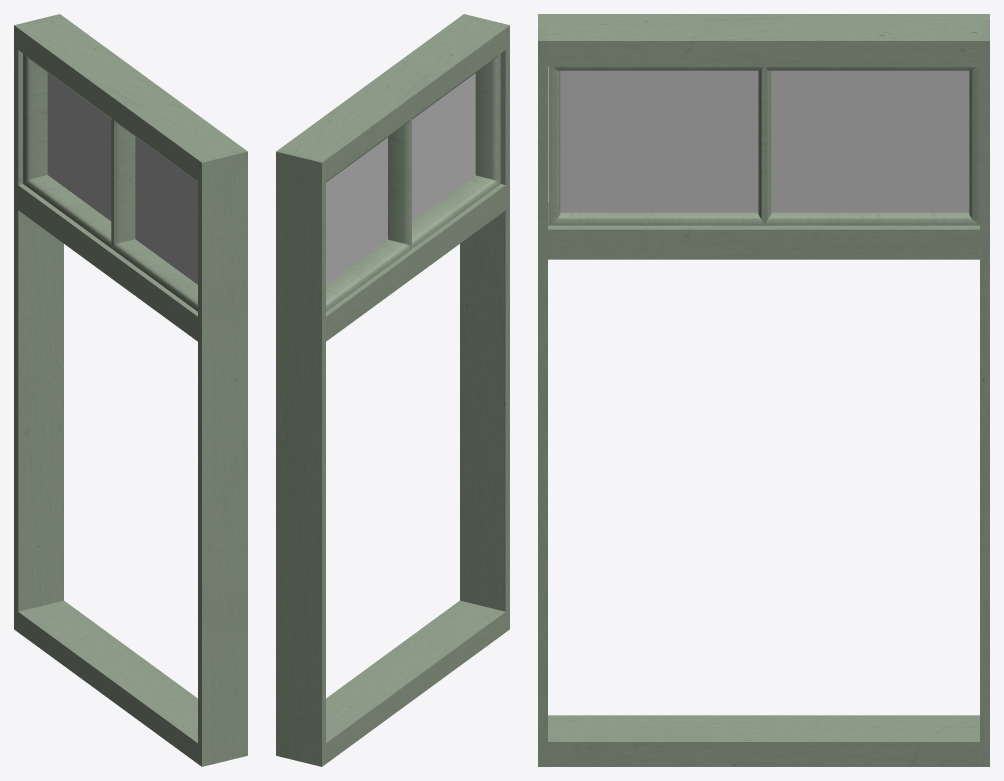
The model's file is SM_WW10_Frame.fbx.
3 renders of one model, left to right at view 1: azimuth 30°, elevation 25°; view 2: azimuth 150°, elevation 25°; view 3: azimuth 270°, elevation 25°, orthographic. The views are drawn at different scales.
Parts seen in each view (by area): view 1: SM_WW10_Frame; view 2: SM_WW10_Frame; view 3: SM_WW10_Frame.
Part boxes in pixels (x1,y1,x2,y2): SM_WW10_Frame: (14,14,247,766); SM_WW10_Frame: (276,14,509,766); SM_WW10_Frame: (538,14,989,766).
Bounding box in the file's own units: 20.52 × 145 × 258.
2 materials, 1 textured.
